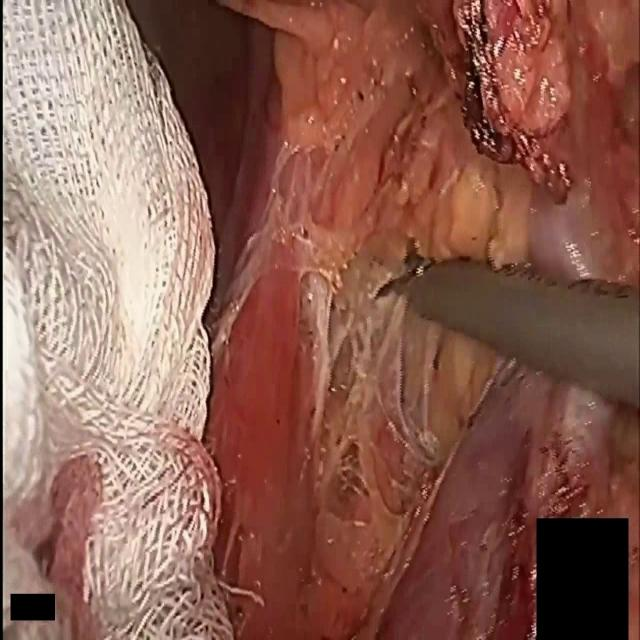surgical-area: (204, 0, 640, 639)
surgical-tool: (374, 235, 640, 412)
